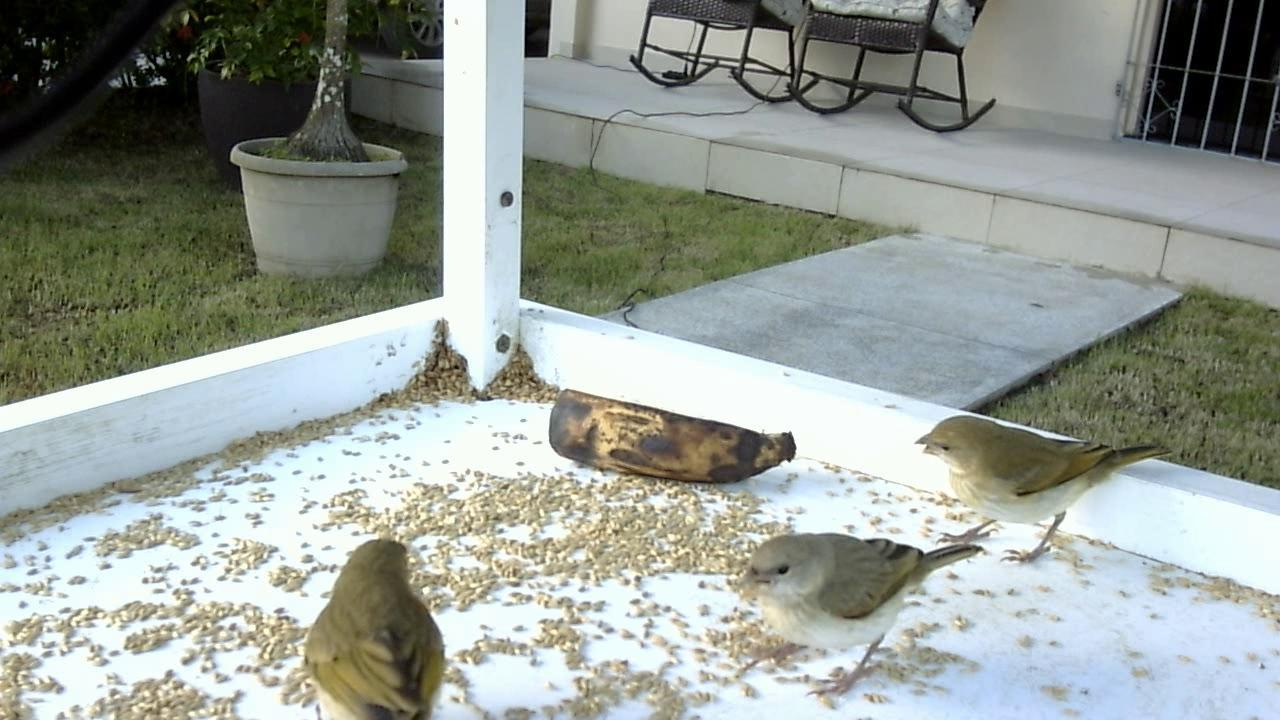canario_do_amazonas: (896, 367, 1169, 581), (723, 508, 1000, 712), (293, 532, 453, 715)
